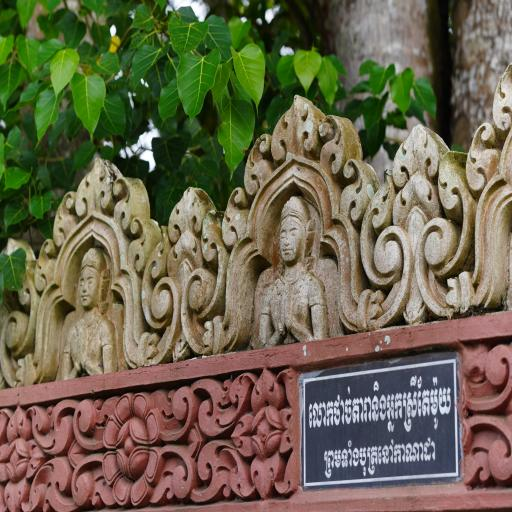hoa: (233, 371, 296, 491), (98, 390, 160, 503), (0, 407, 42, 511)
la: (359, 130, 474, 328), (148, 183, 226, 361), (1, 233, 33, 382), (271, 93, 324, 161), (465, 410, 512, 486), (317, 108, 360, 189), (465, 342, 512, 413), (72, 156, 124, 215), (111, 169, 154, 236), (462, 121, 502, 190), (338, 155, 379, 217), (197, 437, 232, 499), (128, 210, 161, 274), (243, 131, 274, 196), (194, 379, 232, 431), (50, 187, 84, 244), (164, 385, 196, 445), (162, 444, 195, 498), (222, 185, 251, 243), (491, 64, 512, 136), (34, 244, 58, 289)
than: (256, 196, 332, 344), (54, 237, 128, 377), (42, 454, 92, 512), (46, 394, 92, 454)
